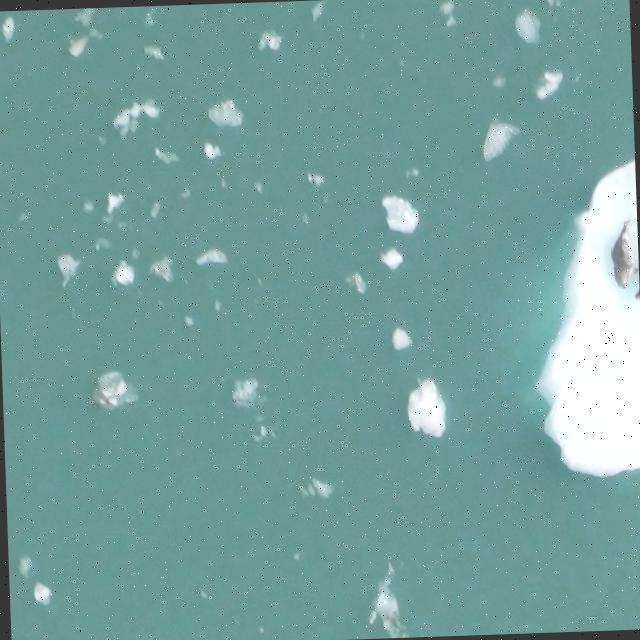seal: (611, 218, 638, 288)
